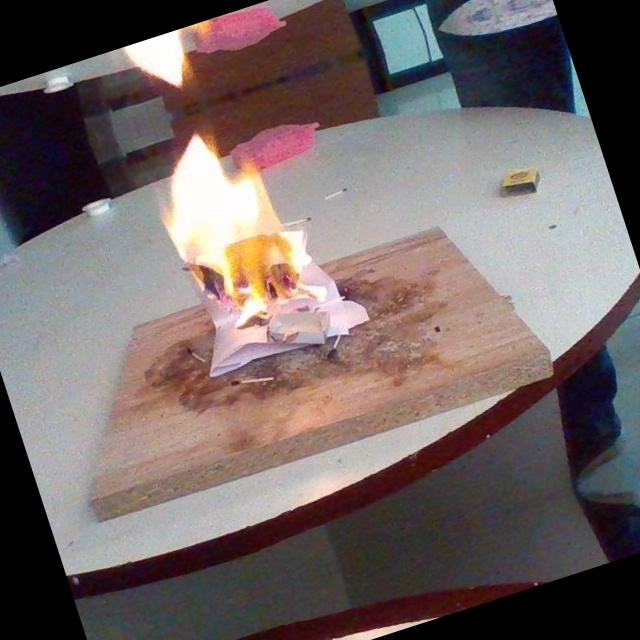fire: (112, 78, 387, 388)
